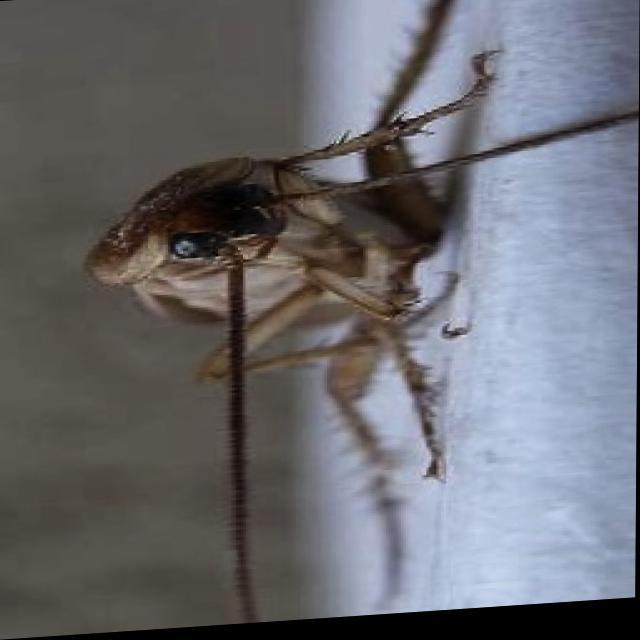cockroach: (84, 104, 551, 417)
